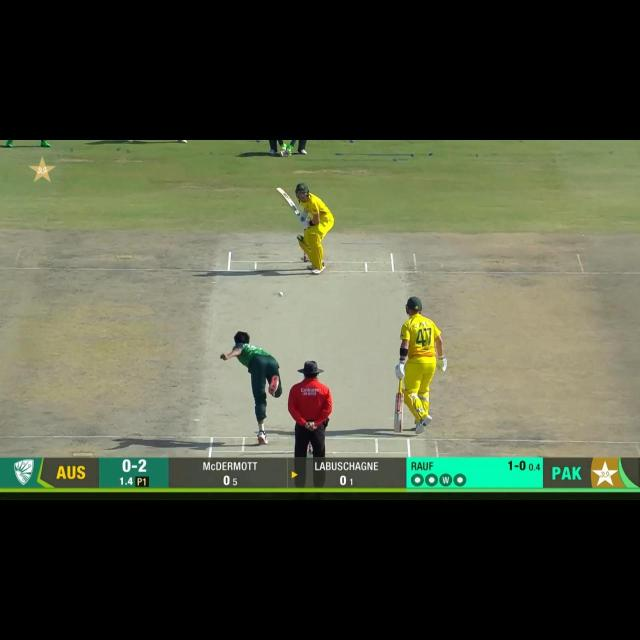bat: (276, 187, 299, 217), (394, 392, 404, 433)
toe: (392, 427, 403, 434), (276, 188, 286, 194)
